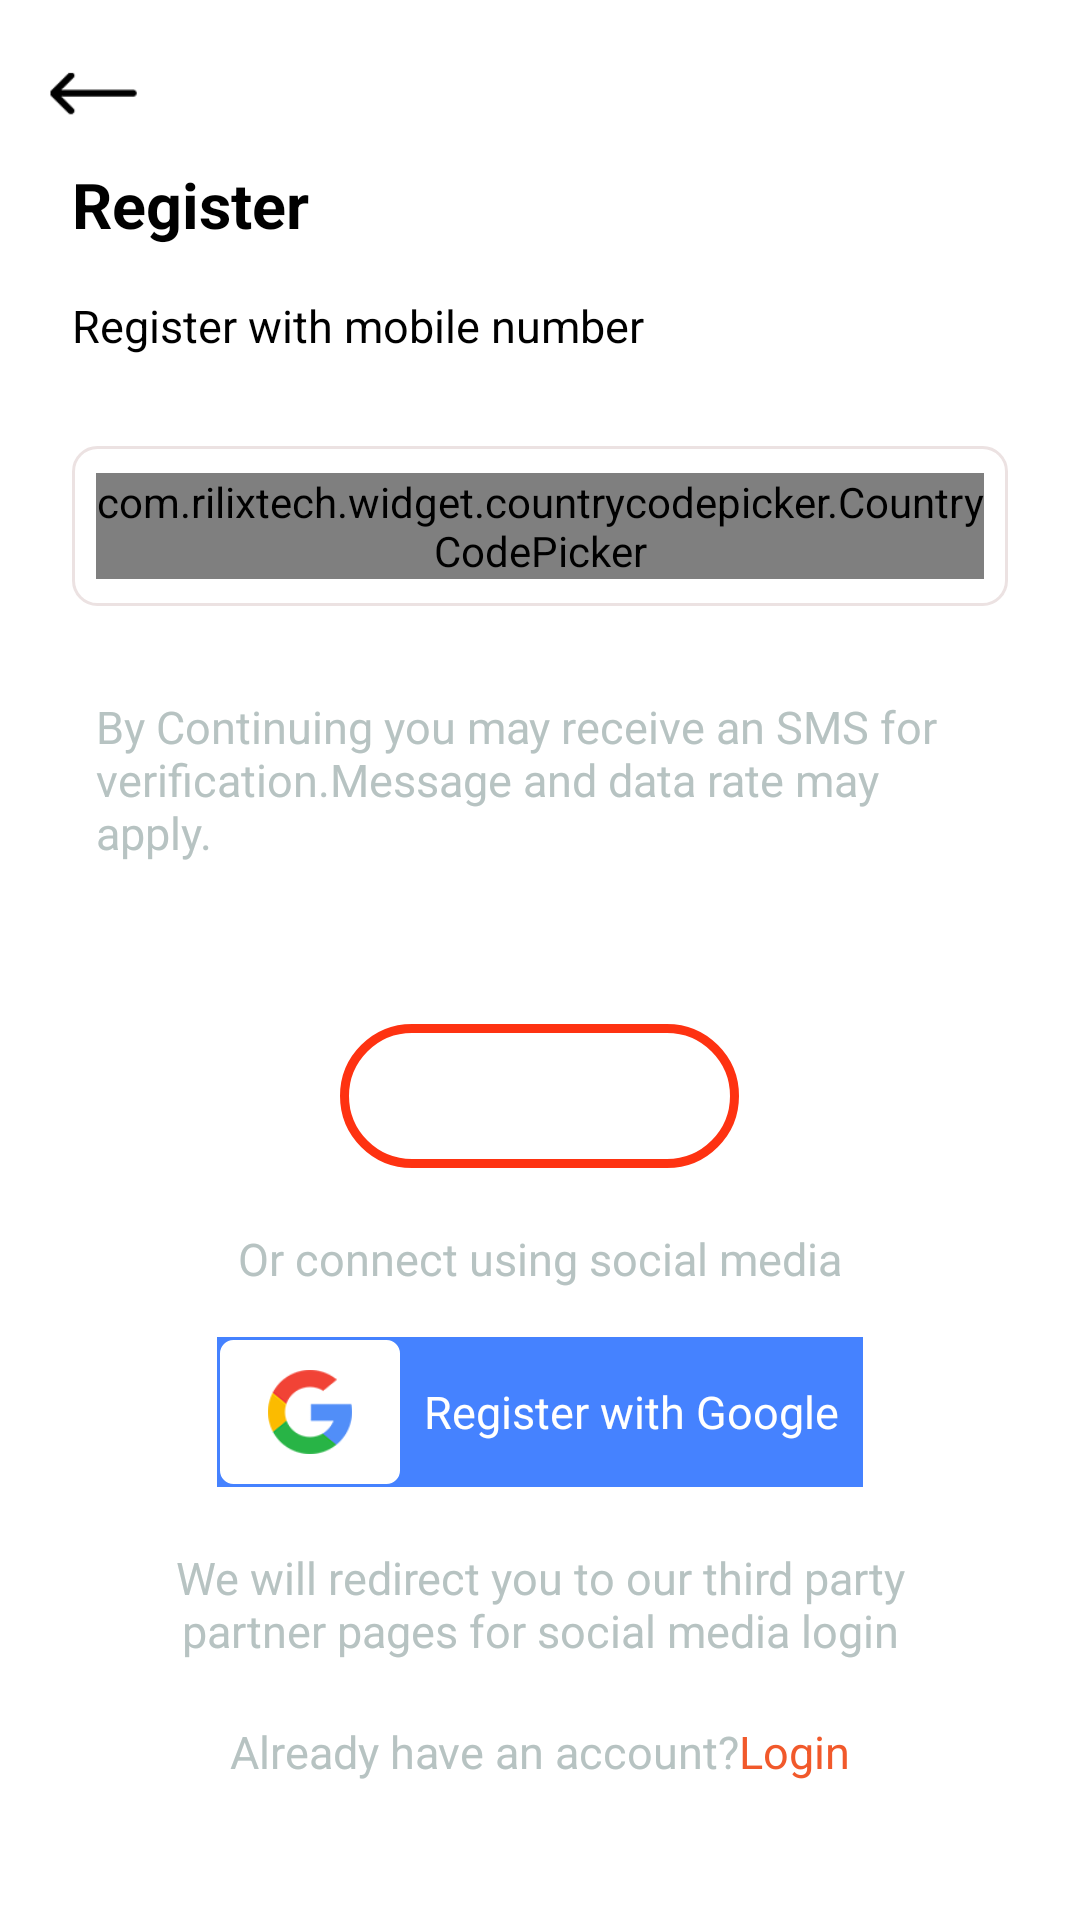

Locate icon controls on the screen. Image size 1080 x 1920, boxes as (x1, y1, x2, y2).
backarrow: (50, 72, 137, 115)
